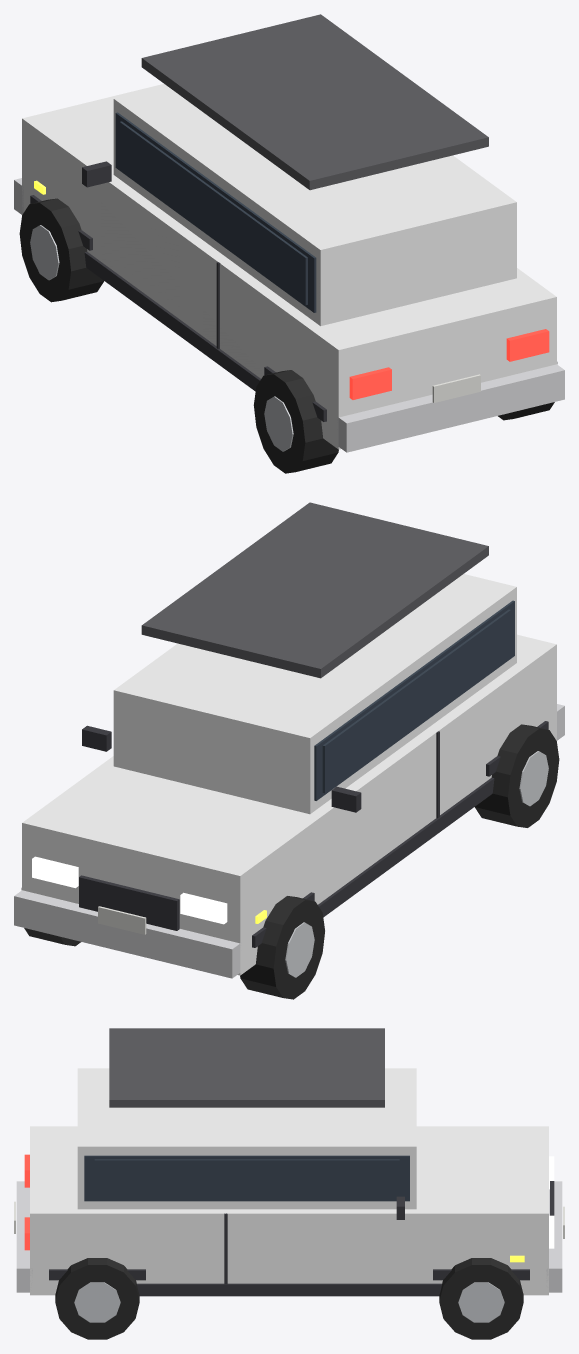
Rendered from car_suv.glb.
3 renders of one model, top to bottom at view 1: azimuth 30°, elevation 25°; view 2: azimuth 150°, elevation 25°; view 3: azimuth 270°, elevation 25°, orthographic. The views are drawn at different scales.
Visible parts, largest first — view 1: SUV_body, SUV_cab, SUV_rack, SUV_sideglass-1, SUV_bumperR, SUV_tire-1-2, SUV_tire-12, SUV_sill-1, SUV_glass, SUV_rim-1-2, SUV_rim-12, SUV_tail1 (+3 smaller); view 2: SUV_body, SUV_cab, SUV_rack, SUV_sideglass-1, SUV_bumperF, SUV_tire-12, SUV_tire-1-2, SUV_grille, SUV_sill-1, SUV_glass, SUV_rim-12, SUV_rim-1-2 (+5 smaller); view 3: SUV_body, SUV_cab, SUV_rack, SUV_sideglass1, SUV_sill1, SUV_tire1-2, SUV_tire12, SUV_glass, SUV_rim1-2, SUV_rim12, SUV_bumperR, SUV_bumperF.
Boxes of the visible parts, box(x1,y1,x2,y2) form: SUV_body: box(22, 84, 556, 449); SUV_cab: box(113, 86, 516, 326); SUV_rack: box(141, 14, 488, 190); SUV_sideglass-1: box(119, 121, 307, 304); SUV_bumperR: box(337, 364, 564, 452); SUV_tire-1-2: box(253, 370, 338, 473); SUV_tire-12: box(19, 198, 103, 302); SUV_sill-1: box(84, 252, 260, 391); SUV_glass: box(115, 112, 316, 312); SUV_rim-1-2: box(264, 396, 293, 451); SUV_rim-12: box(30, 225, 59, 280); SUV_tail1: box(506, 329, 549, 361); SUV_body: box(22, 634, 556, 975); SUV_cab: box(113, 574, 516, 814); SUV_rack: box(141, 502, 488, 678); SUV_sideglass-1: box(322, 609, 510, 793); SUV_bumperF: box(14, 890, 240, 978); SUV_tire-12: box(240, 896, 324, 999); SUV_tire-1-2: box(475, 724, 559, 827); SUV_grille: box(79, 875, 179, 930); SUV_sill-1: box(318, 777, 494, 917); SUV_glass: box(314, 600, 514, 800); SUV_rim-12: box(285, 922, 314, 977); SUV_rim-1-2: box(519, 751, 548, 806); SUV_body: box(30, 1126, 548, 1295); SUV_cab: box(77, 1068, 416, 1209); SUV_rack: box(109, 1028, 384, 1107); SUV_sideglass1: box(94, 1159, 399, 1198); SUV_sill1: box(137, 1283, 441, 1296); SUV_tire1-2: box(55, 1258, 139, 1339); SUV_tire12: box(439, 1258, 523, 1339); SUV_glass: box(84, 1155, 409, 1201); SUV_rim1-2: box(74, 1282, 120, 1322); SUV_rim12: box(458, 1282, 504, 1322); SUV_bumperR: box(16, 1181, 32, 1292); SUV_bumperF: box(546, 1181, 562, 1292).
Size of the model in its own units: 2.45 by 2.34 by 5.2.
